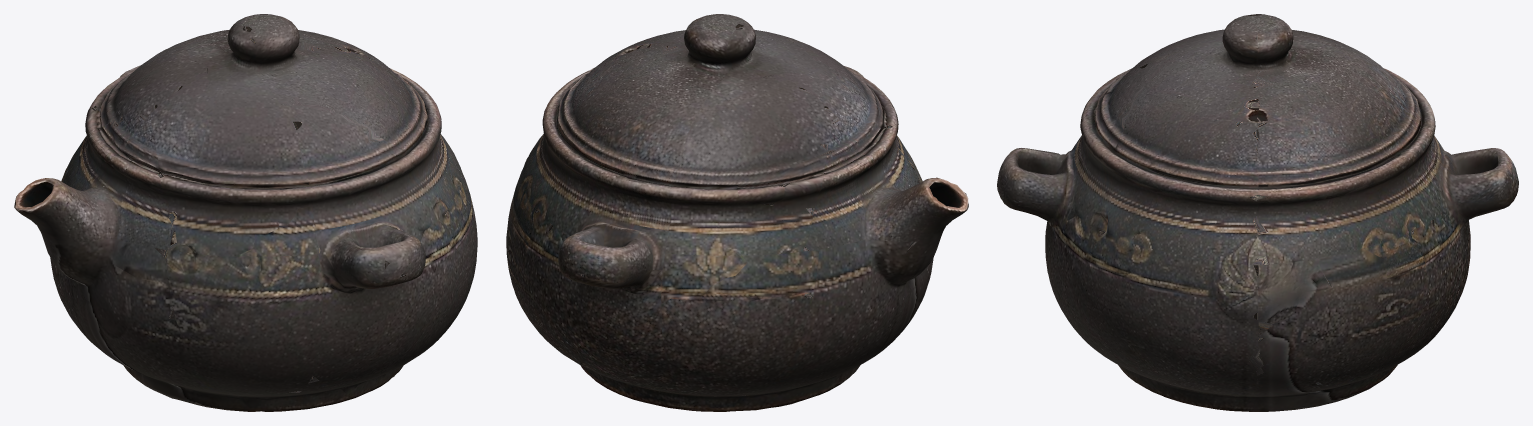
Rendered from pot-mobile.glb.
3 views of the same model, side by side, from view 1: azimuth 30°, elevation 25°; view 2: azimuth 150°, elevation 25°; view 3: azimuth 270°, elevation 25° (orthographic).
Visible parts, largest first — view 1: tripo_node_4f4bd6ce-1856-4e80-973b-e448fa8c8c77; view 2: tripo_node_4f4bd6ce-1856-4e80-973b-e448fa8c8c77; view 3: tripo_node_4f4bd6ce-1856-4e80-973b-e448fa8c8c77.
Part boxes in pixels (bbox=[...]): tripo_node_4f4bd6ce-1856-4e80-973b-e448fa8c8c77: bbox=[14, 14, 477, 411]; tripo_node_4f4bd6ce-1856-4e80-973b-e448fa8c8c77: bbox=[506, 14, 968, 411]; tripo_node_4f4bd6ce-1856-4e80-973b-e448fa8c8c77: bbox=[997, 14, 1518, 411].
Bounding box in the file's own units: 0.9594 × 0.6994 × 0.9998.
Materials: 1 (1 with a texture image).
